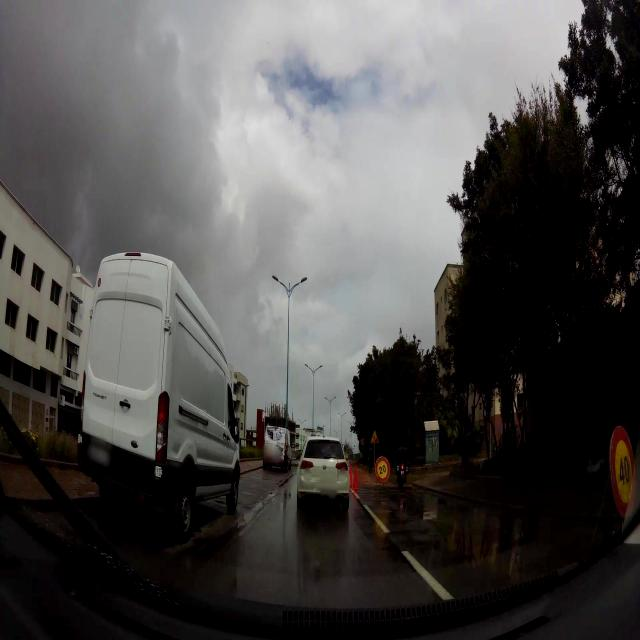bike: (395, 456, 408, 487)
car: (76, 249, 243, 543), (296, 434, 350, 514), (263, 423, 292, 471)
